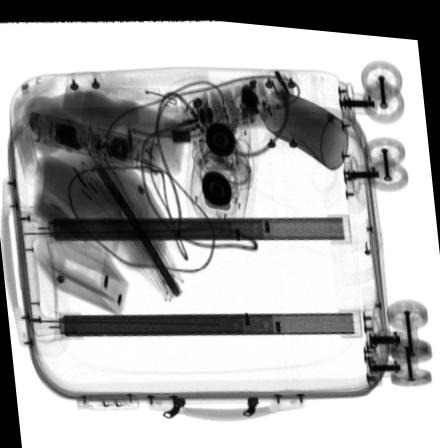Baton: (27, 106, 162, 173)
